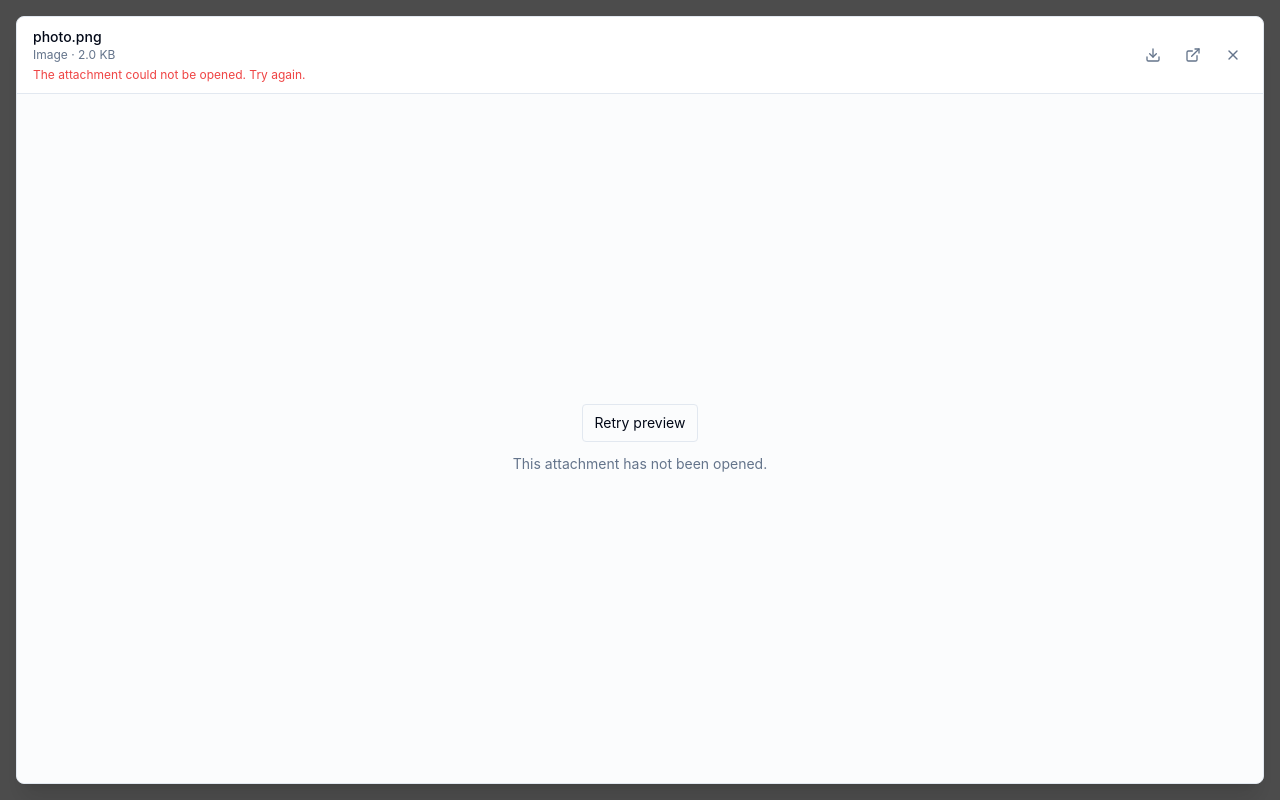
header actions › shows host scan progress and cancellation in the viewer header
The image size is (1280, 800).
Click the button named "Save a copy": (1153, 55) top-left (1139, 41), bottom-right (1167, 69)
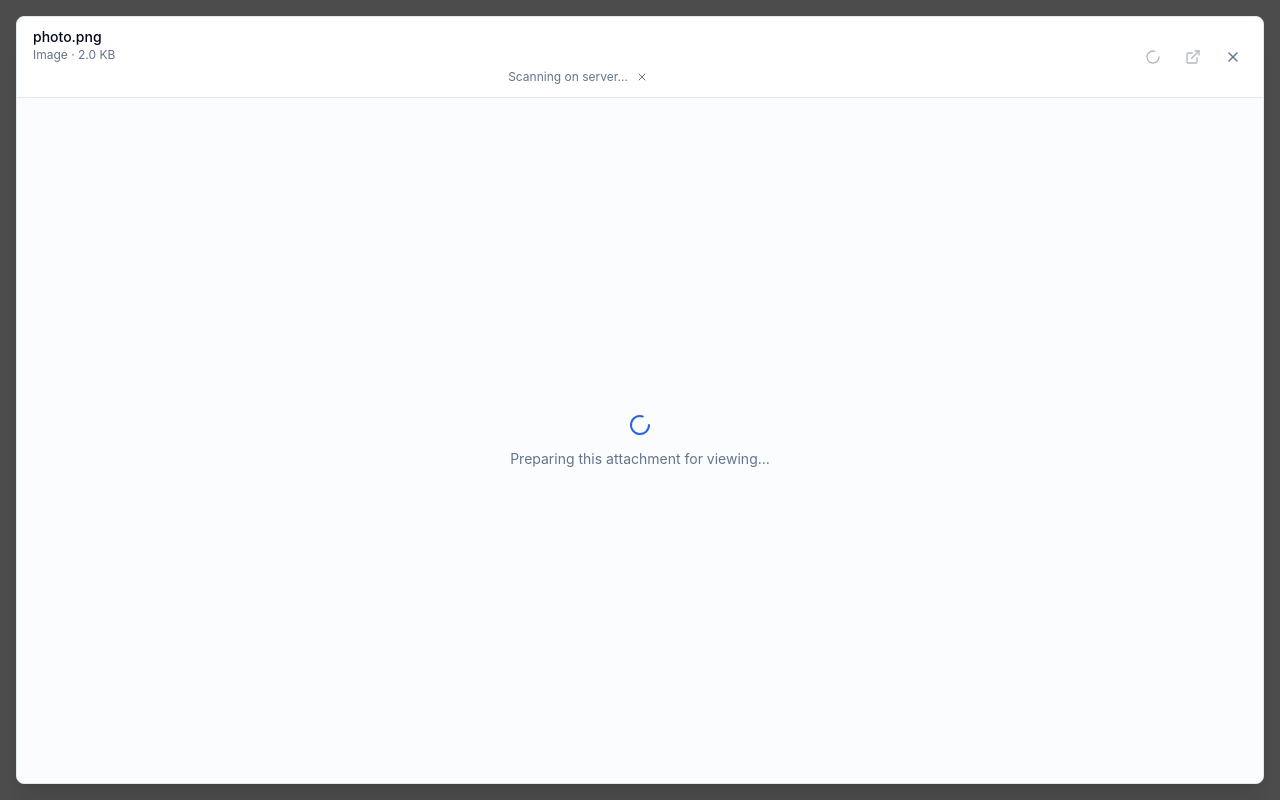
Result: the text "Scanning on server…" is shown at top-left (508, 69), bottom-right (628, 85)
Result: the button named "Open in system app" is disabled at top-left (1179, 43), bottom-right (1207, 71)
Click the button named "Cancel download of photo.png": (642, 77) top-left (632, 67), bottom-right (652, 87)
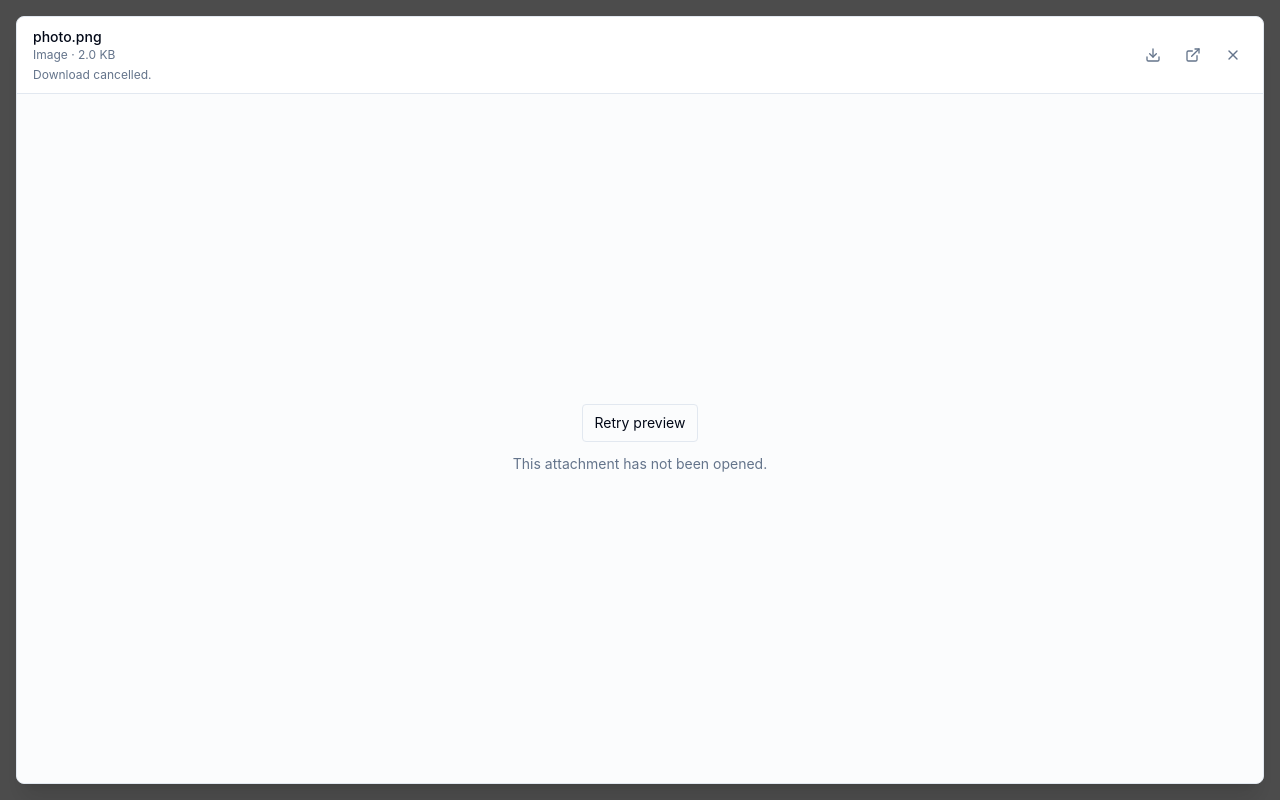
Result: the text "Download cancelled." is shown at top-left (33, 67), bottom-right (152, 82)
